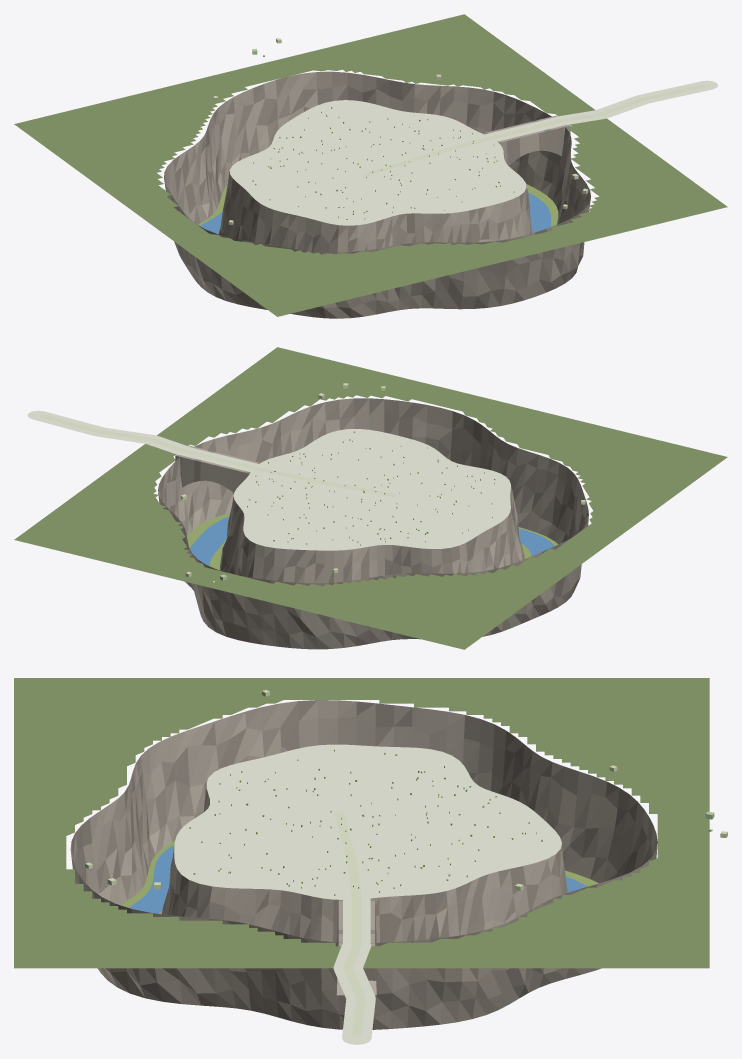
Rendered from meseta.glb.
The picture shows the model from 3 angles, top to bottom: view 1: azimuth 30°, elevation 25°; view 2: azimuth 150°, elevation 25°; view 3: azimuth 270°, elevation 25°; orthographic projection. The views are drawn at different scales.
Parts seen in each view (by area): view 1: AutoForest_Meseta, MesetaCanyon, MesetaMeadow, PuenteNatural, MesetaPath, SenderoMeadow, MesetaRio, PuenteMeadow; view 2: AutoForest_Meseta, MesetaCanyon, MesetaMeadow, PuenteNatural, MesetaRio, MesetaPath, SenderoMeadow, PuenteMeadow; view 3: AutoForest_Meseta, MesetaCanyon, MesetaMeadow, MesetaPath, SenderoMeadow, MesetaRio, PuenteMeadow, PuenteNatural.
Boxes of the visible parts, left/top/right/bottom form: AutoForest_Meseta: left=14, top=14, right=727, bottom=316; MesetaCanyon: left=164, top=71, right=590, bottom=318; MesetaMeadow: left=229, top=100, right=526, bottom=225; PuenteNatural: left=482, top=115, right=571, bottom=165; MesetaPath: left=362, top=85, right=704, bottom=176; SenderoMeadow: left=551, top=80, right=718, bottom=124; MesetaRio: left=200, top=192, right=550, bottom=233; PuenteMeadow: left=478, top=116, right=572, bottom=142; AutoForest_Meseta: left=14, top=347, right=727, bottom=649; MesetaCanyon: left=158, top=398, right=588, bottom=649; MesetaMeadow: left=233, top=429, right=510, bottom=550; PuenteNatural: left=175, top=445, right=259, bottom=492; MesetaRio: left=190, top=517, right=554, bottom=566; MesetaPath: left=41, top=415, right=396, bottom=496; SenderoMeadow: left=27, top=410, right=192, bottom=455; PuenteMeadow: left=173, top=446, right=266, bottom=472; AutoForest_Meseta: left=14, top=678, right=709, bottom=968; MesetaCanyon: left=70, top=700, right=657, bottom=1029; MesetaMeadow: left=174, top=744, right=561, bottom=899; MesetaPath: left=334, top=812, right=365, bottom=1036; SenderoMeadow: left=333, top=939, right=375, bottom=1044; MesetaRio: left=129, top=845, right=587, bottom=913; PuenteMeadow: left=343, top=893, right=370, bottom=950; PuenteNatural: left=336, top=898, right=376, bottom=995.
Size of what is drawn, in the model's own units: 200 by 29.42 by 164.
